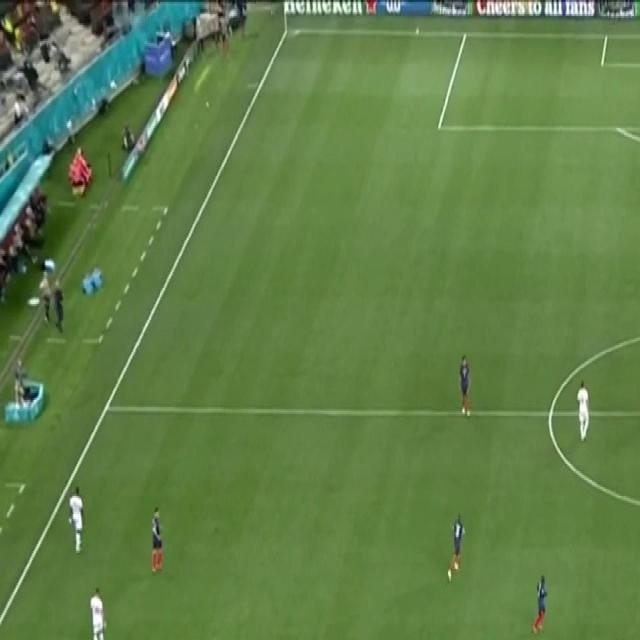player-white: (446, 512, 466, 584), (67, 485, 87, 555), (89, 583, 108, 640), (576, 381, 592, 443), (532, 574, 548, 634), (457, 355, 471, 419), (151, 504, 163, 578), (611, 634, 631, 640), (639, 364, 640, 426)
